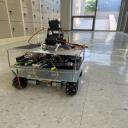cart: (4, 43, 86, 96)
